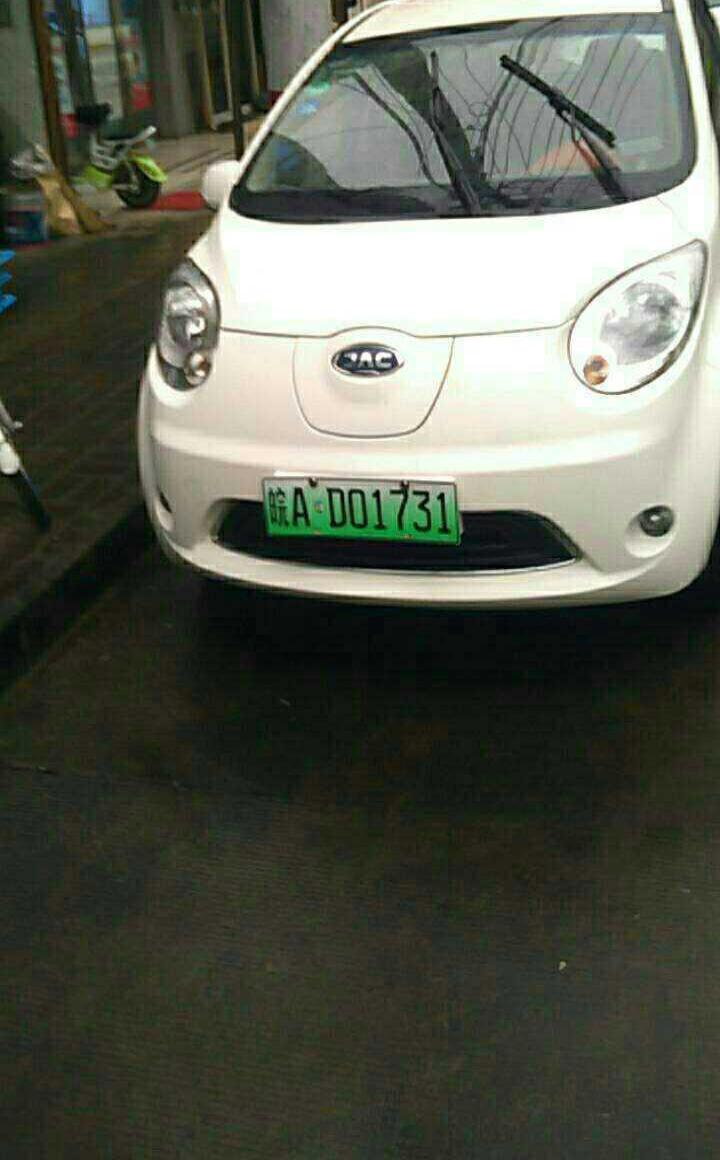car_green: (254, 473, 471, 549)
